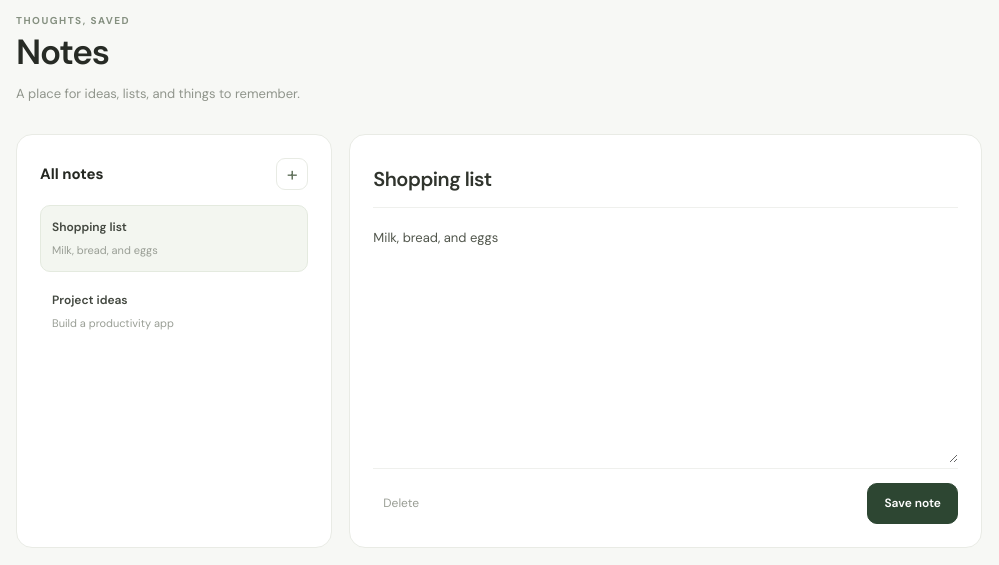
it: Notes page › saves changes to a note
Replace the text in the field named "Note title" with "Updated shopping list". click: {"x": 666, "y": 183}
box: [373,158,958,208]
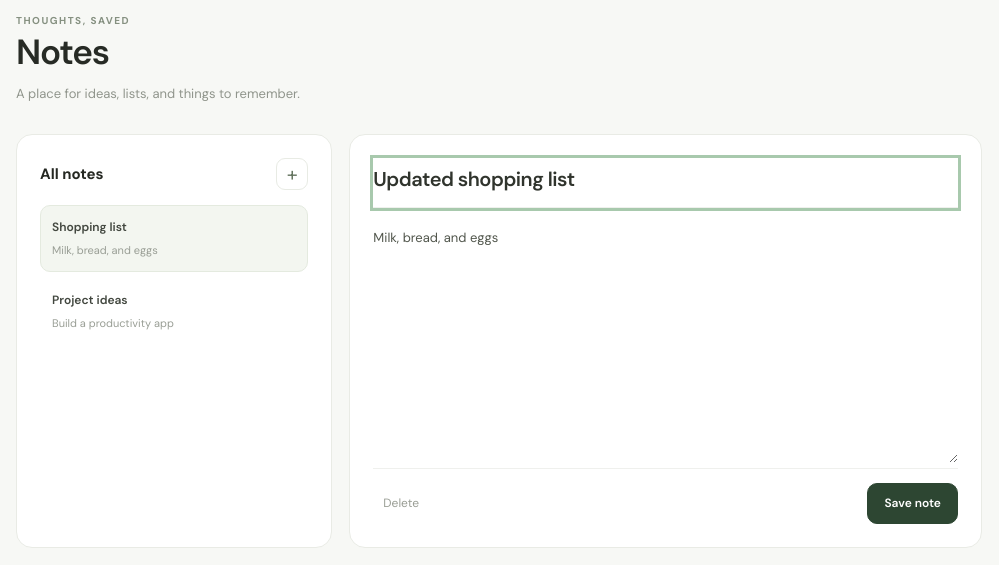
Replace the text in the text box named "Note content" with "Coffee and fruit". click: {"x": 666, "y": 335}
box: [373,208,958,463]
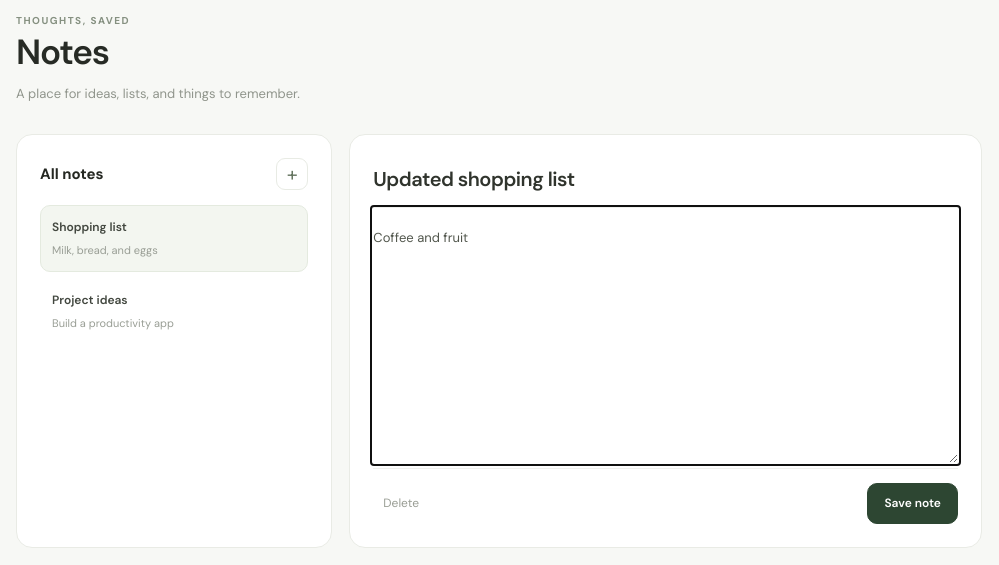
Click the button "Save note". click: {"x": 913, "y": 503}
box: [868,483,958,524]
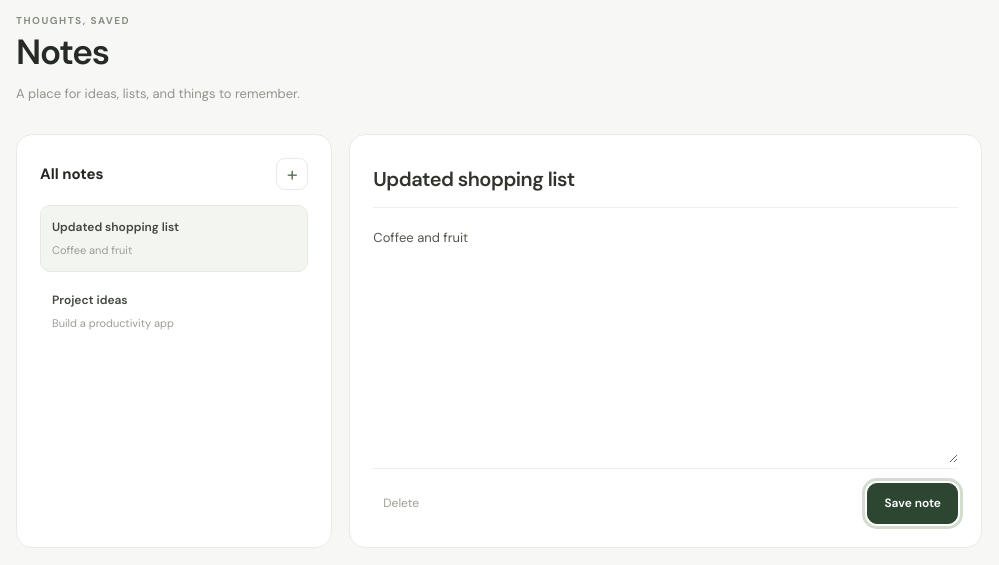
Check: the text "Updated shopping list" is shown, box [52,219,179,235]
